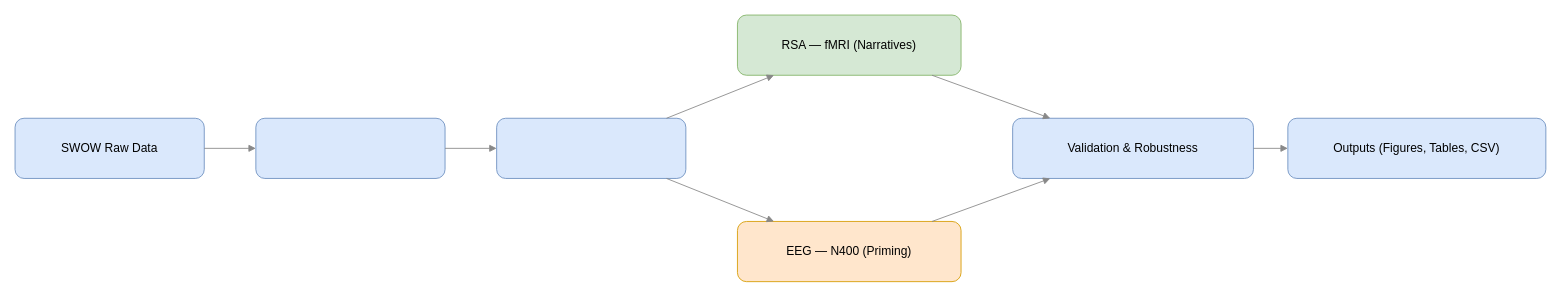
The diagram is 1561 pixels wide and 297 high, and some of its shapes have lost their labels. Each missing label, with the centre of its shape:
"Embeddings" belongs at (x=591, y=147).
"Symbolic Metrics" belongs at (x=350, y=147).
